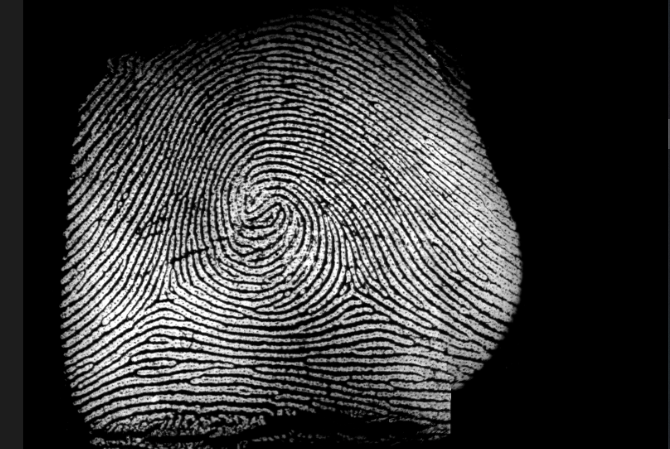nucelo: (257, 196, 296, 225)
verticilo: (337, 275, 364, 301), (145, 288, 178, 309)
